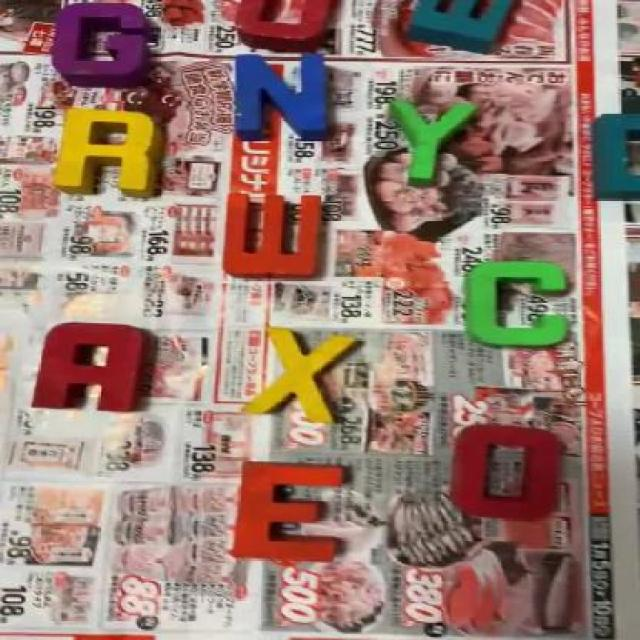A: (39, 322, 150, 413)
C: (472, 261, 568, 348)
E: (232, 462, 346, 560)
G: (58, 2, 153, 88)
N: (233, 53, 325, 135)
O: (455, 422, 563, 521)
R: (51, 109, 169, 191)
W: (225, 192, 326, 279)
X: (246, 326, 352, 423)
Y: (384, 100, 473, 183)
